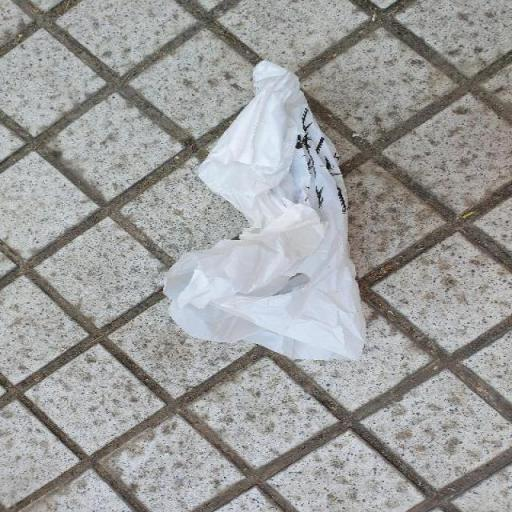plastic-bag: (158, 56, 372, 365)
